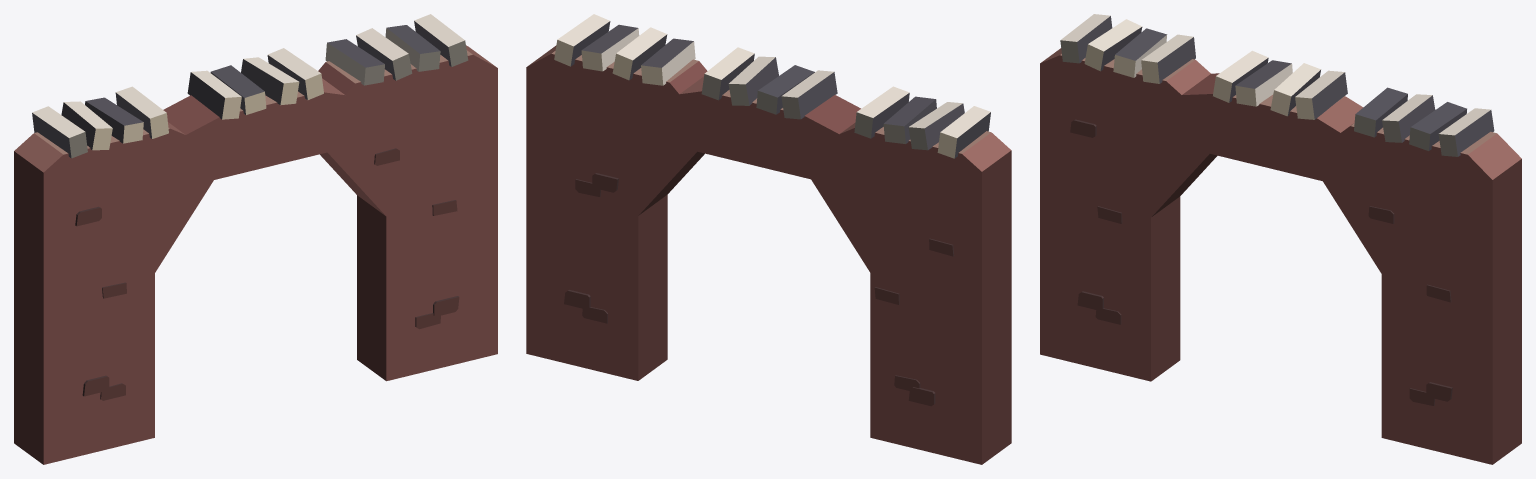
Rendered from TB_D_Bd_Gate_A_Red.FBX.
The picture shows the model from 3 angles, left to right: view 1: azimuth 30°, elevation 25°; view 2: azimuth 150°, elevation 25°; view 3: azimuth 330°, elevation 25°; orthographic projection.
Visible parts, largest first — view 1: TB_D_Bd_Gate_A_Red; view 2: TB_D_Bd_Gate_A_Red; view 3: TB_D_Bd_Gate_A_Red.
Part boxes in pixels (x1,y1,x2,y2): TB_D_Bd_Gate_A_Red: [14, 14, 497, 464]; TB_D_Bd_Gate_A_Red: [526, 14, 1011, 464]; TB_D_Bd_Gate_A_Red: [1040, 14, 1521, 464].
Bounding box in the file's own units: 6.23 × 4.27 × 0.8679.
